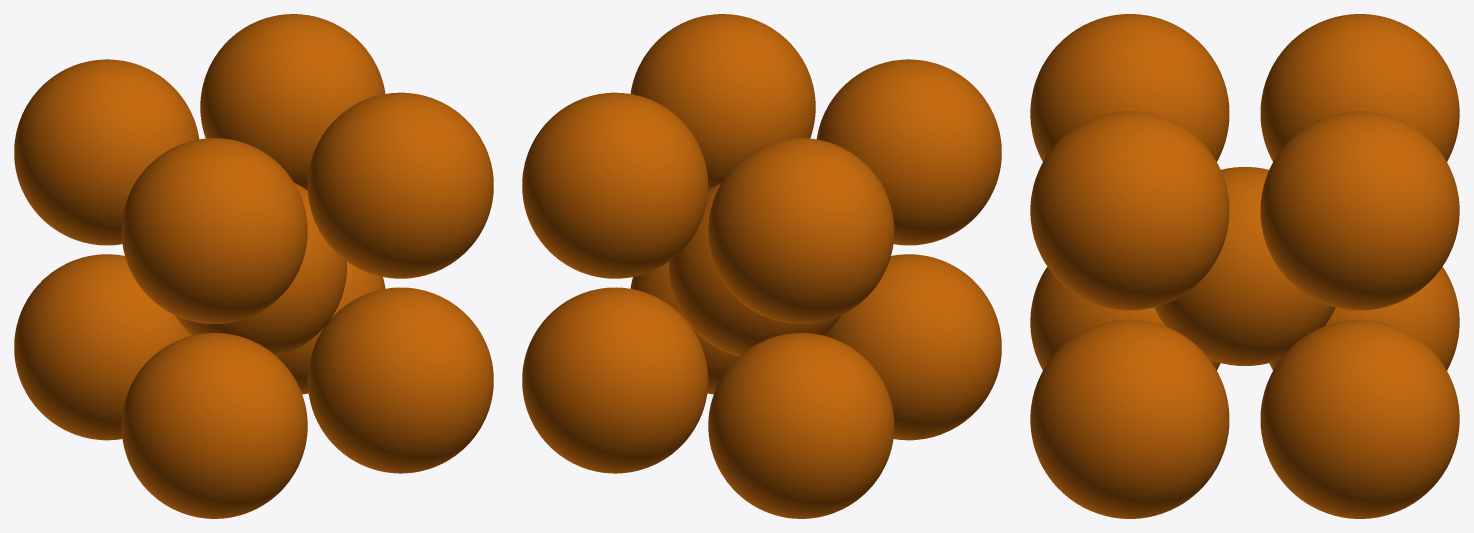
Rendered from BCC_Atoms_Compressed.glb.
3 renders of one model, left to right at view 1: azimuth 30°, elevation 25°; view 2: azimuth 150°, elevation 25°; view 3: azimuth 270°, elevation 25°, orthographic. The views are drawn at different scales.
Parts seen in each view (by area): view 1: BCC_Atoms; view 2: BCC_Atoms; view 3: BCC_Atoms.
Part boxes in pixels (<box>): BCC_Atoms: <box>14,14,493,518</box>; BCC_Atoms: <box>522,14,1001,518</box>; BCC_Atoms: <box>1030,14,1459,518</box>.
Bounding box in the file's own units: 0.7464 × 0.7459 × 0.746.
